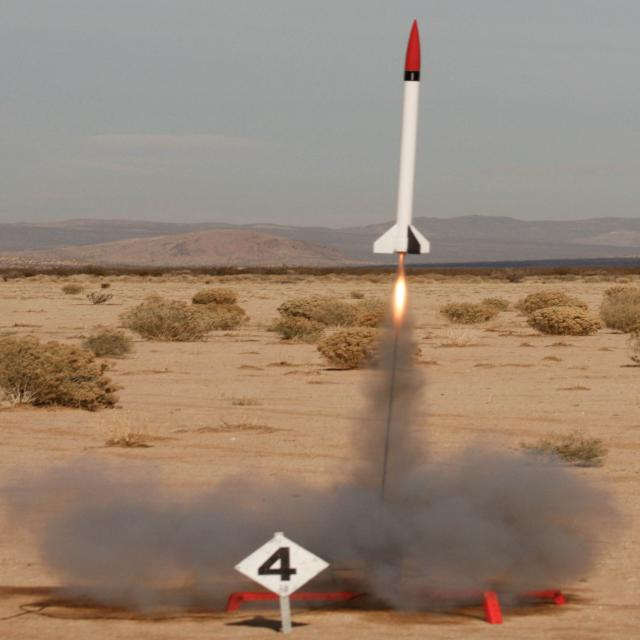Rocket: (371, 17, 433, 256)
